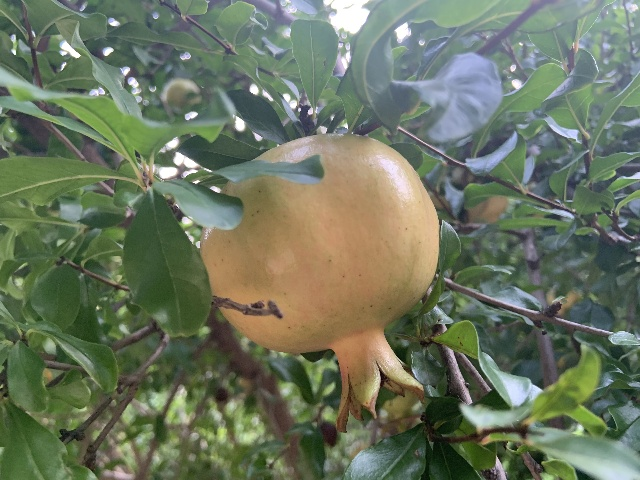mid-growth: (199, 132, 440, 433)
